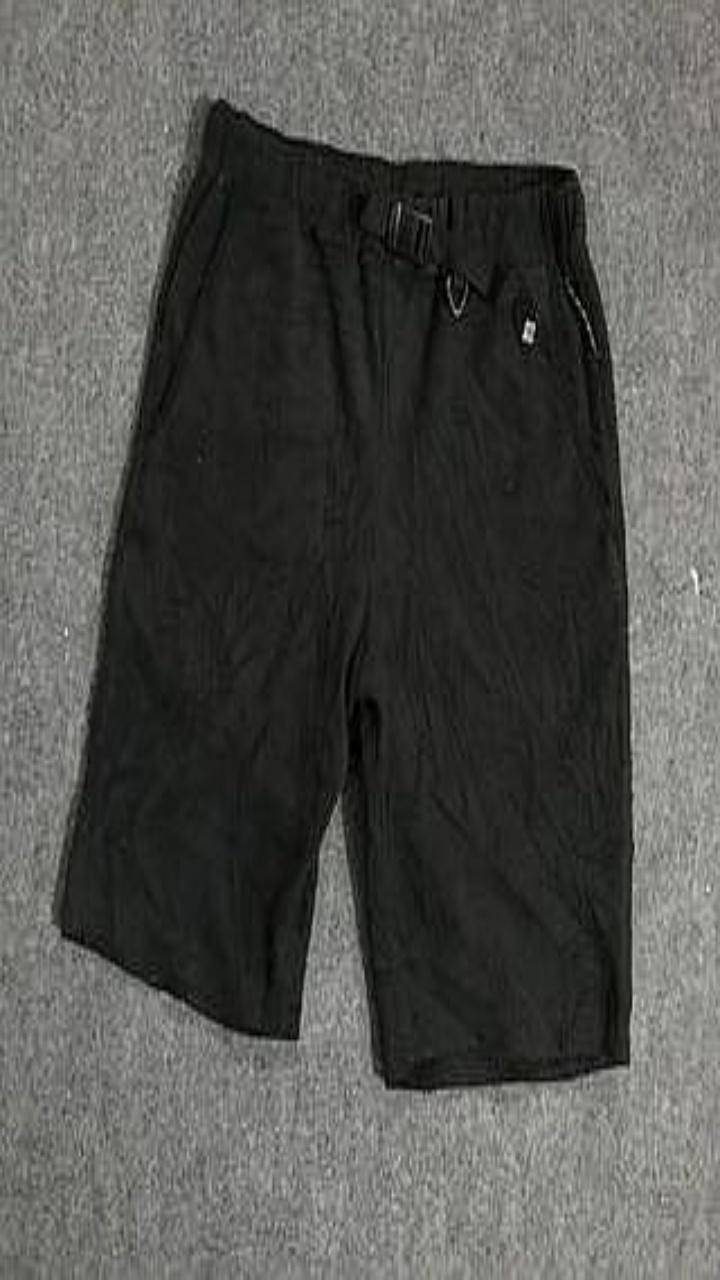Shorts: (59, 100, 632, 1087)
